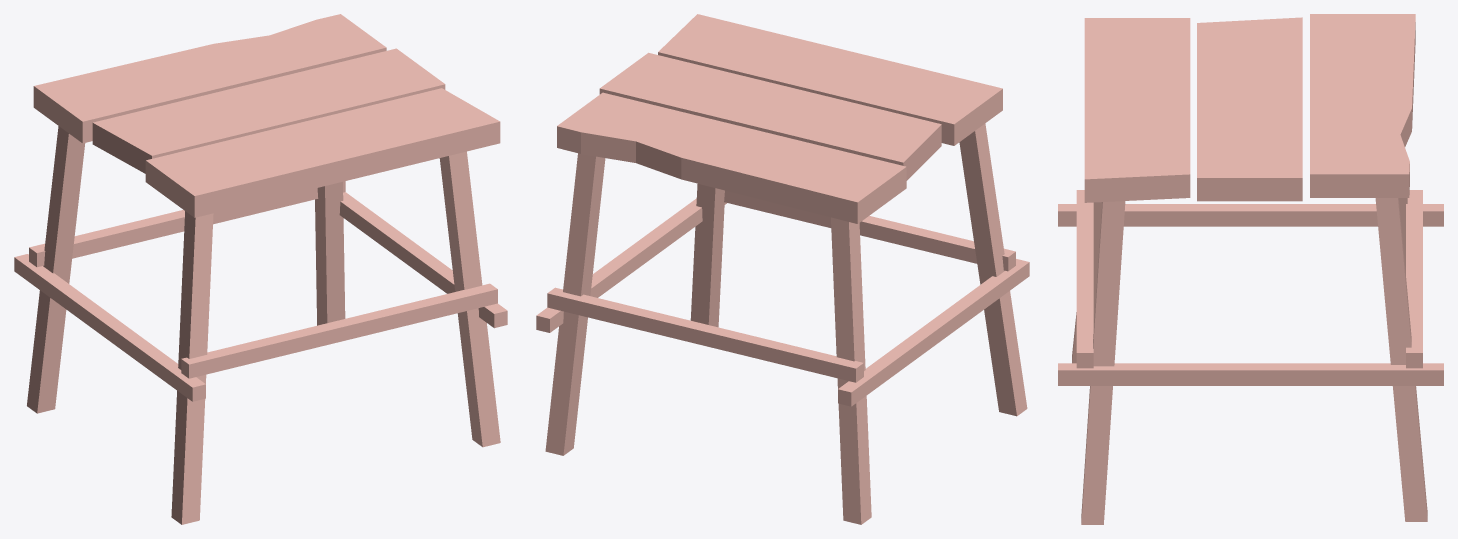
File: Mega_Asset_s_Pack_Cube_333.FBX
3 renders of one model, left to right at view 1: azimuth 30°, elevation 25°; view 2: azimuth 150°, elevation 25°; view 3: azimuth 270°, elevation 25°, orthographic. The views are drawn at different scales.
Visible parts, largest first — view 1: Mega_Asset_s_Pack_Cube_333; view 2: Mega_Asset_s_Pack_Cube_333; view 3: Mega_Asset_s_Pack_Cube_333.
Boxes of the visible parts, x1,y1,x2,y2 form: Mega_Asset_s_Pack_Cube_333: (14, 14, 507, 524); Mega_Asset_s_Pack_Cube_333: (536, 14, 1029, 524); Mega_Asset_s_Pack_Cube_333: (1058, 14, 1443, 524).
Size of what is drawn, in the model's own units: 96.37 by 91.77 by 90.88.
